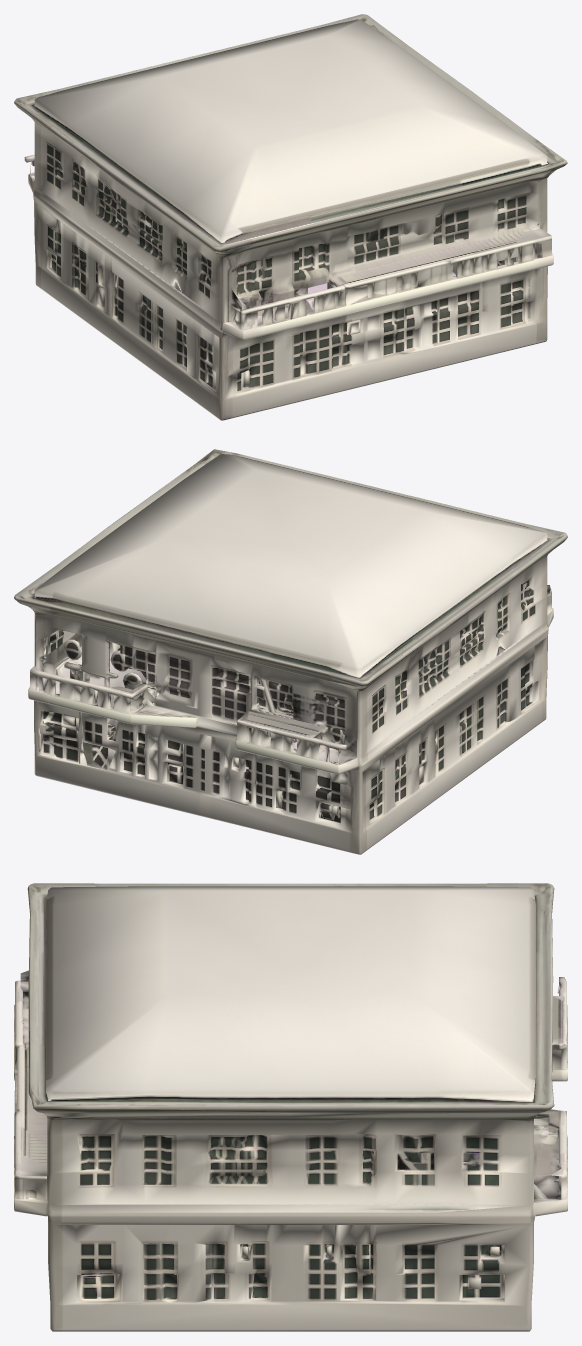
File: bld_556855829.glb
3 views of the same model, one above another, from view 1: azimuth 30°, elevation 25°; view 2: azimuth 150°, elevation 25°; view 3: azimuth 270°, elevation 25° (orthographic). The views are drawn at different scales.
Size of the model in its own units: 1.81 by 1.08 by 1.91.
Materials: 1 (1 with a texture image).
